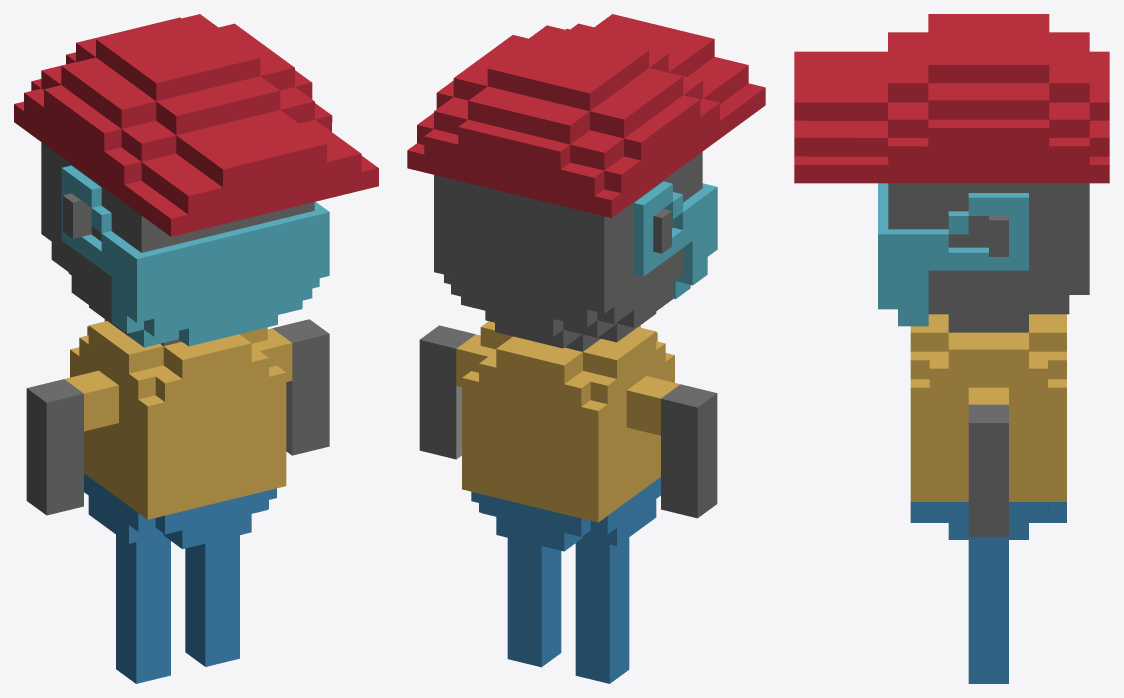
The model's file is Employee_Model.fbx.
The picture shows the model from 3 angles, left to right: view 1: azimuth 30°, elevation 25°; view 2: azimuth 150°, elevation 25°; view 3: azimuth 270°, elevation 25°; orthographic projection. The views are drawn at different scales.
Parts seen in each view (by area): view 1: Hat, Body, Mask, Leg_Right, Arm_Right, Leg_Left, Arm_Left; view 2: Body, Hat, Leg_Right, Arm_Right, Leg_Left, Mask, Arm_Left; view 3: Hat, Body, Mask, Leg_Left, Arm_Left.
Part boxes in pixels (x1,y1,x2,y2): Hat: [14, 14, 378, 236]; Body: [41, 142, 314, 548]; Mask: [61, 165, 329, 347]; Leg_Right: [116, 535, 170, 683]; Arm_Right: [26, 379, 83, 515]; Leg_Left: [185, 535, 239, 666]; Arm_Left: [272, 319, 329, 455]; Body: [434, 152, 702, 551]; Hat: [407, 14, 765, 217]; Leg_Right: [575, 537, 629, 683]; Arm_Right: [661, 384, 717, 518]; Leg_Left: [507, 538, 561, 667]; Mask: [634, 181, 717, 299]; Arm_Left: [419, 325, 475, 459]; Hat: [794, 14, 1109, 183]; Body: [888, 183, 1089, 539]; Mask: [878, 183, 1028, 326]; Leg_Left: [968, 540, 1008, 683]; Arm_Left: [968, 404, 1008, 536].
Size of the model in its own units: 1.63 by 3.39 by 1.57.
